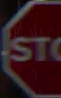Stop: (3, 2, 60, 97)
